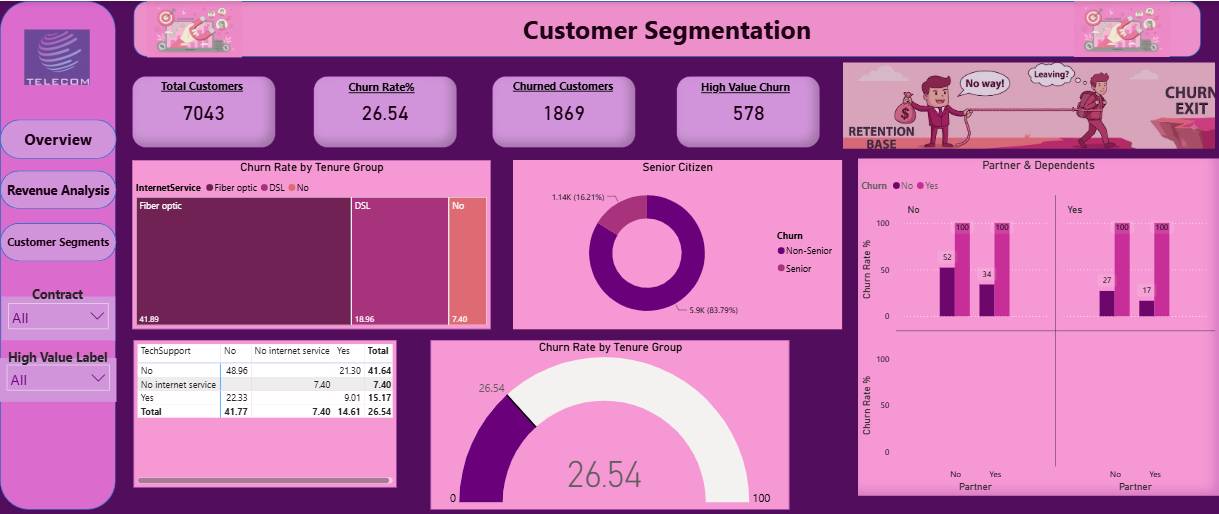

This screenshot's page, from the dashboard's own definition file:
{"tool":"powerbi","page":{"name":"Customer Segmentation","canvas":[1800,760],"ordinal":4},"visuals":[{"type":"shape","box":[197.4,0,1576.1,82.5],"z":0},{"type":"shape","box":[0,0,170.9,751.2],"z":1000},{"type":"image","box":[34,42,102,82],"z":2000},{"type":"shape","box":[0,176,172,58],"z":3000},{"type":"card","fields":{"Values":["Measures (2).Churn Rate %"]},"box":[462,110,212,106],"z":4000},{"type":"card","fields":{"Values":["Measures (2).Total Customers"]},"box":[196,110,212,106],"z":5000},{"type":"card","fields":{"Values":["Measures (2).Churned Customers"]},"box":[726,110,212,106],"z":6000},{"type":"card","fields":{"Values":["Measures (2).High Value Churned"]},"box":[1000,110,212,106],"z":7000},{"type":"donutChart","title":"Senior Citizen","fields":{"Category":["telcom churn.Senior Label"],"Y":["CountNonNull(telcom churn.customerID)"]},"box":[758,234,486,250],"z":8000},{"type":"clusteredColumnChart","title":"Partner & Dependents","fields":{"Category":["telcom churn.Partner"],"Rows":["telcom churn.Dependents"],"Series":["telcom churn.Churn"],"Y":["Measures (2).Churn Rate %"]},"box":[1266.8,232.7,533.2,497.9],"z":9000},{"type":"treemap","title":"Churn Rate by Tenure Group","fields":{"Group":["telcom churn.InternetService"],"Values":["Measures (2).Churn Rate %"]},"box":[196,234,530,250],"z":10000},{"type":"slicer","fields":{"Values":["telcom churn.Contract"]},"box":[2.9,436,167.9,64.8],"z":11000},{"type":"textbox","box":[41.9,414.8,96.4,41.9],"z":12000},{"type":"image","box":[216.7,0,139.7,83],"z":13000},{"type":"image","box":[1584.9,0,141.4,82.5],"z":14000},{"type":"slicer","fields":{"Values":["telcom churn.High Value Label"]},"box":[0,527.9,171.8,64.9],"z":15000},{"type":"textbox","box":[6.3,507,165.5,41.9],"z":16000},{"type":"textbox","box":[232.9,109.4,137.7,40.5],"z":17000},{"type":"textbox","box":[508.4,111.4,117.5,50.6],"z":18000},{"type":"textbox","box":[745.3,109.4,174.2,50.6],"z":19000},{"type":"textbox","box":[1030.7,111,150.8,48.2],"z":20000},{"type":"shape","box":[0,249.3,171.8,56.6],"z":21000},{"type":"shape","box":[0,328.9,171.8,56.6],"z":22000},{"type":"pivotTable","title":"Churn Rate by Tenure Group","fields":{"Columns":["telcom churn.OnlineSecurity"],"Rows":["telcom churn.TechSupport"],"Values":["Measures (2).Churn Rate %"]},"box":[197.4,500.8,388.9,218],"z":23000},{"type":"gauge","title":"Churn Rate by Tenure Group","fields":{"MaxValue":["Measures (2).Max Value"],"MinValue":["Measures (2).Min Value"],"TargetValue":["Measures (2).Churn Rate %"],"Y":["Measures (2).Churn Rate %"]},"box":[636.3,500.8,530.3,250.4],"z":24000},{"type":"image","box":[1245,90,549,127],"z":25000}]}

Visuals, with their boxes on the page's 1800x760 design canvas (x1, y1, x2, y2). These are canvas units, not pixel positions in the 1219x514 screenshot, which may show the page scaled, cropped or inside an application window:
shape: select_region(197, 0, 1774, 82)
shape: select_region(0, 0, 171, 751)
image: select_region(34, 42, 136, 124)
shape: select_region(0, 176, 172, 234)
card - Measures (2).Churn Rate %: select_region(462, 110, 674, 216)
card - Measures (2).Total Customers: select_region(196, 110, 408, 216)
card - Measures (2).Churned Customers: select_region(726, 110, 938, 216)
card - Measures (2).High Value Churned: select_region(1000, 110, 1212, 216)
"Senior Citizen" donutChart: select_region(758, 234, 1244, 484)
"Partner & Dependents" clusteredColumnChart: select_region(1267, 233, 1800, 731)
"Churn Rate by Tenure Group" treemap: select_region(196, 234, 726, 484)
slicer - telcom churn.Contract: select_region(3, 436, 171, 501)
textbox: select_region(42, 415, 138, 457)
image: select_region(217, 0, 356, 83)
image: select_region(1585, 0, 1726, 82)
slicer - telcom churn.High Value Label: select_region(0, 528, 172, 593)
textbox: select_region(6, 507, 172, 549)
textbox: select_region(233, 109, 371, 150)
textbox: select_region(508, 111, 626, 162)
textbox: select_region(745, 109, 920, 160)
textbox: select_region(1031, 111, 1182, 159)
shape: select_region(0, 249, 172, 306)
shape: select_region(0, 329, 172, 386)
"Churn Rate by Tenure Group" pivotTable: select_region(197, 501, 586, 719)
"Churn Rate by Tenure Group" gauge: select_region(636, 501, 1167, 751)
image: select_region(1245, 90, 1794, 217)
